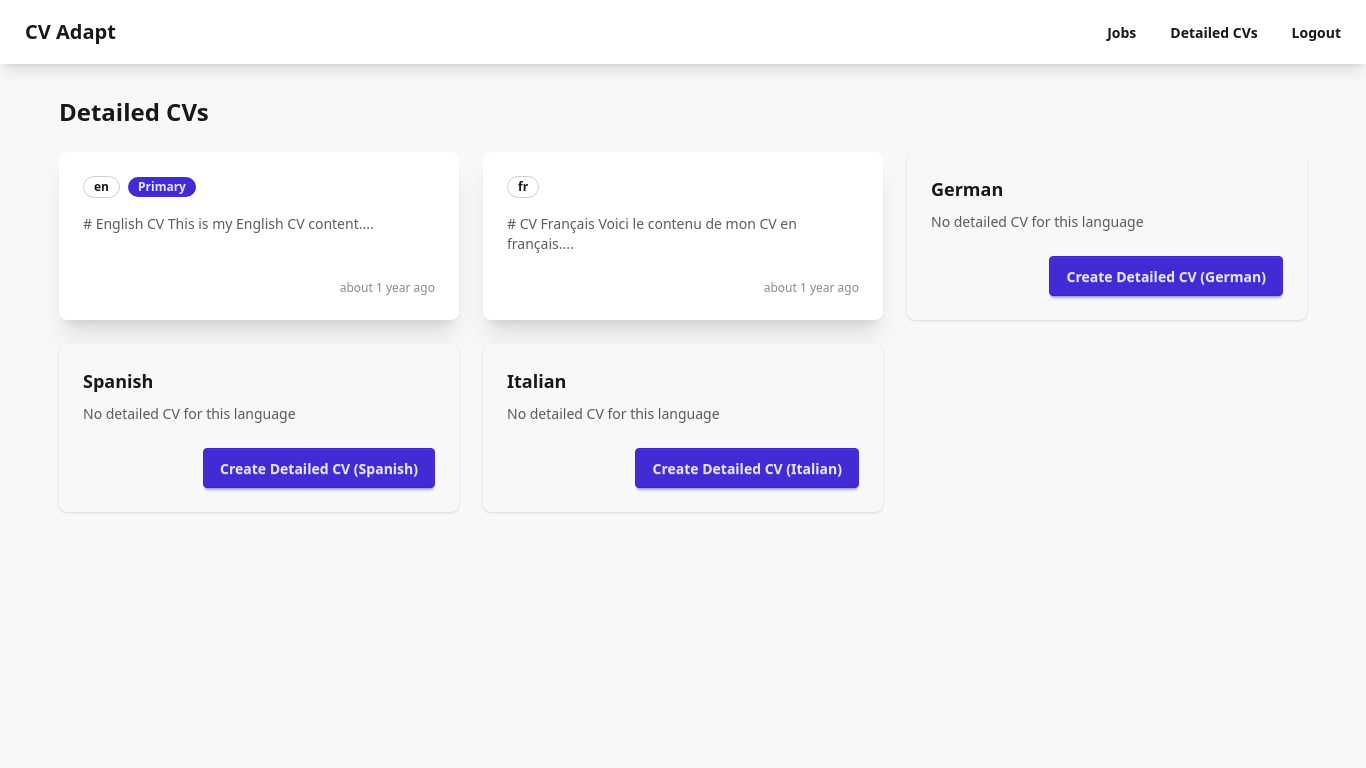
Test: Detailed CV List Operations › should navigate to create page when clicking create button
Check: the element with test id "de-heading" is shown, box top-left (907, 152), bottom-right (1307, 320)
Click the button "Create Detailed CV (German)": (1166, 276) top-left (1050, 256), bottom-right (1283, 296)
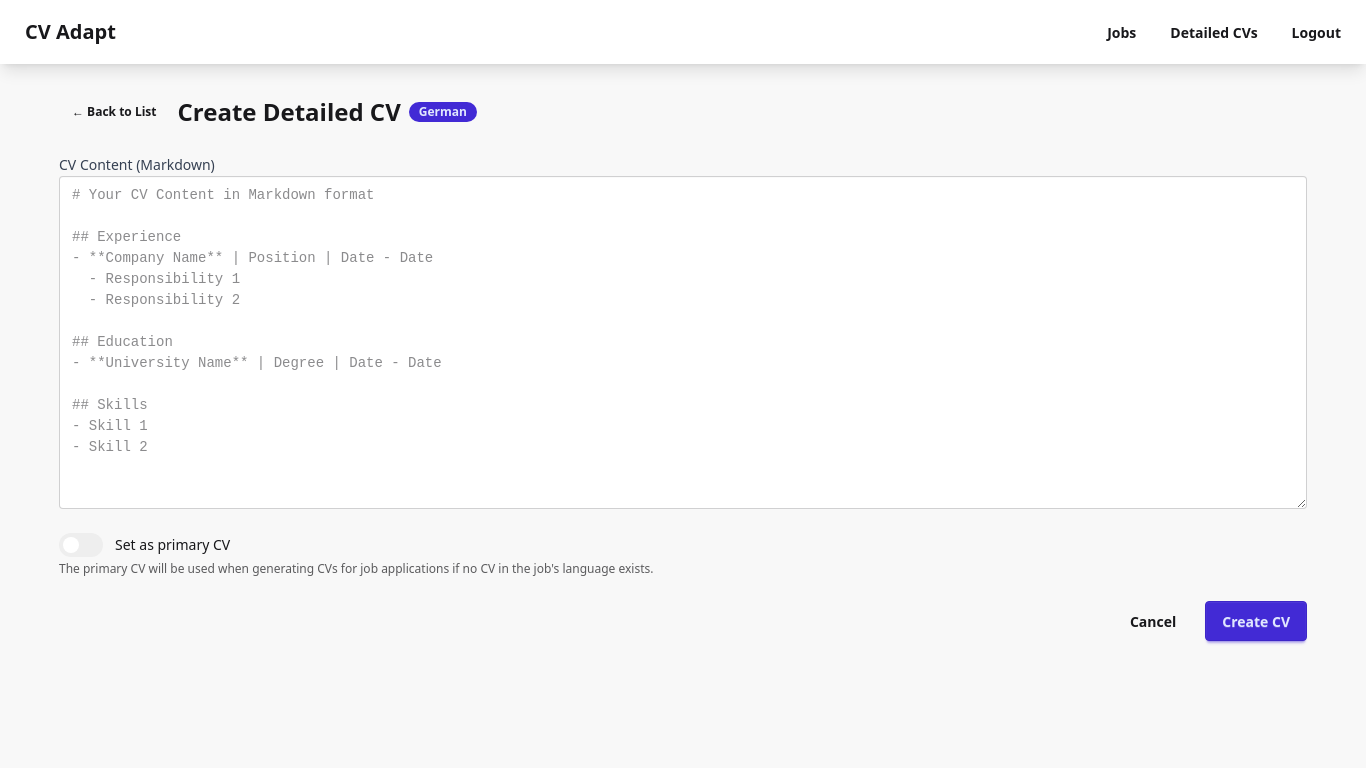
Check: the text "German" is shown, box top-left (409, 102), bottom-right (477, 122)
Check: the form is shown, box top-left (59, 152), bottom-right (1307, 641)
